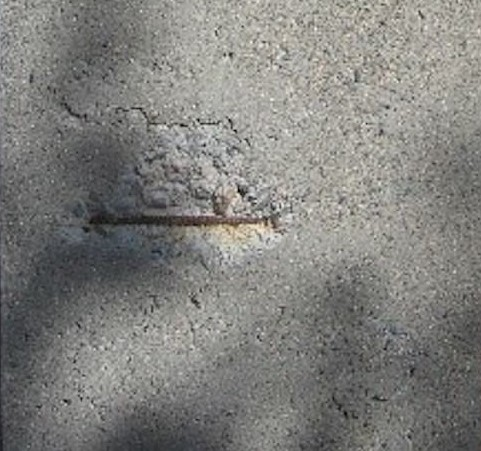Exposed reinforcement: (88, 215, 268, 227)
Spalling: (55, 131, 291, 267)
